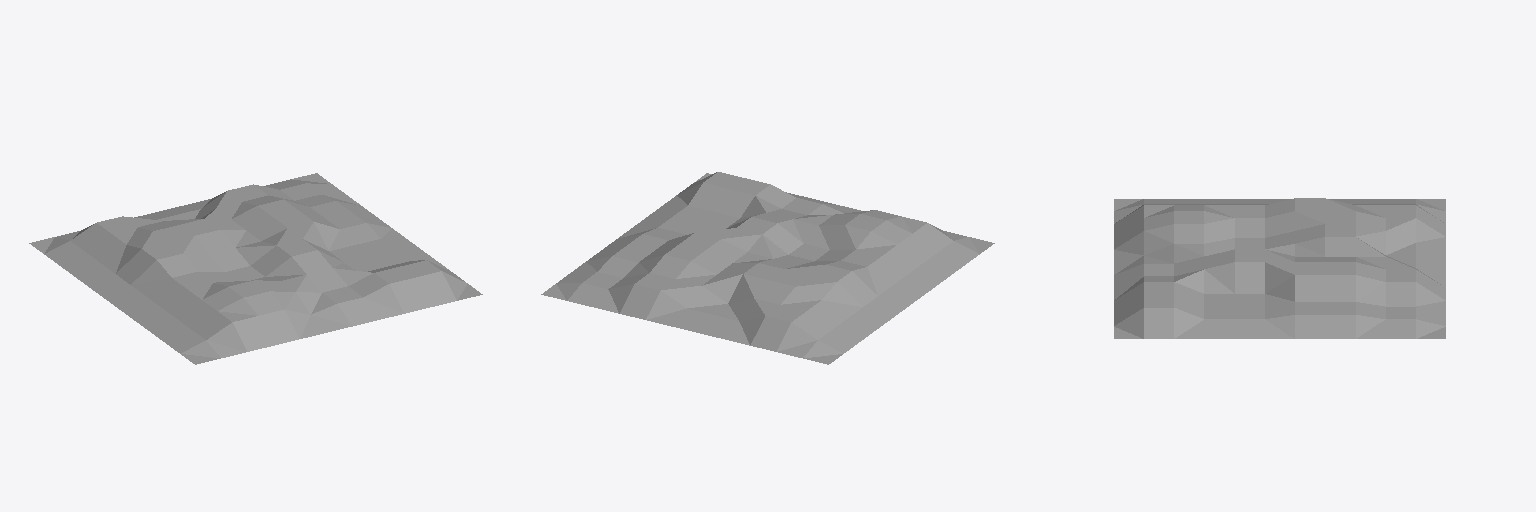
File: landscape.obj
3 renders of one model, left to right at view 1: azimuth 30°, elevation 25°; view 2: azimuth 150°, elevation 25°; view 3: azimuth 270°, elevation 25°, orthographic.
Size of the model in its own units: 64 by 5.5 by 64.